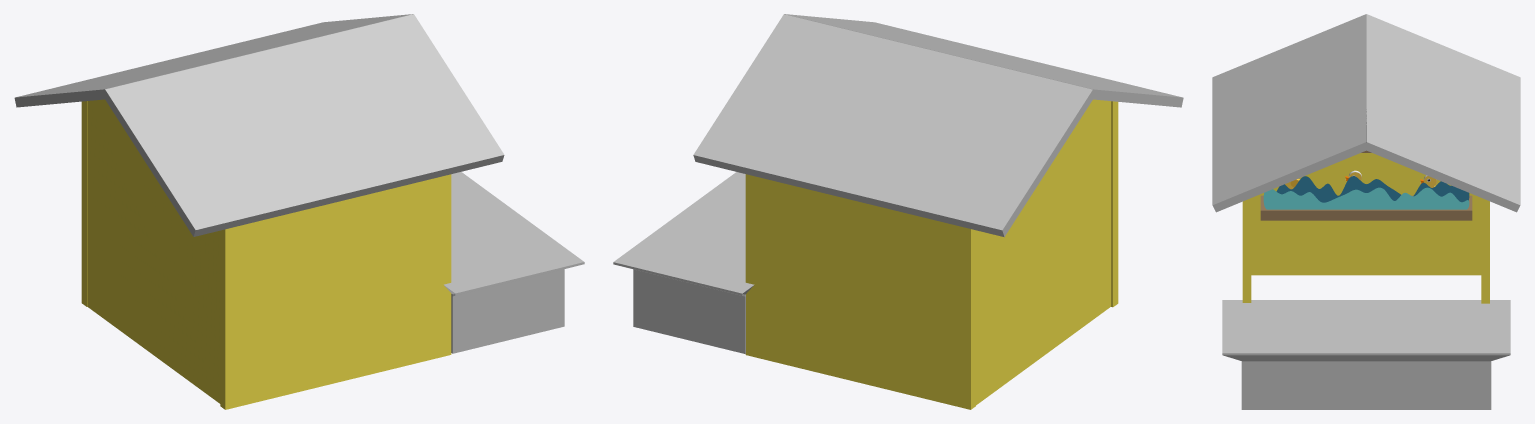
File: booth animation.fbx
The picture shows the model from 3 angles, left to right: view 1: azimuth 30°, elevation 25°; view 2: azimuth 150°, elevation 25°; view 3: azimuth 270°, elevation 25°; orthographic projection. The views are drawn at different scales.
Parts seen in each view (by area): view 1: Cube.004, Cube.001, Cube.003, Cube, Cube.002; view 2: Cube.004, Cube.002, Cube.003, Cube, Cube.001; view 3: Cube.004, Cube, Cube.003, Plane, Cube.006, Plane.001, Cube.001, Cube.002.
Boxes of the visible parts, <box> form: Cube.004: <box>14,14,504,236</box>; Cube.001: <box>220,174,451,409</box>; Cube.003: <box>87,99,220,403</box>; Cube: <box>444,172,584,353</box>; Cube.002: <box>81,101,87,306</box>; Cube.004: <box>693,14,1183,237</box>; Cube.002: <box>745,174,975,409</box>; Cube.003: <box>976,99,1110,405</box>; Cube: <box>613,172,754,353</box>; Cube.001: <box>1111,101,1118,307</box>; Cube.004: <box>1212,14,1520,212</box>; Cube: <box>1222,300,1510,409</box>; Cube.003: <box>1251,153,1481,275</box>; Plane: <box>1263,187,1469,209</box>; Cube.006: <box>1260,195,1472,220</box>; Plane.001: <box>1276,176,1469,202</box>; Cube.001: <box>1242,198,1251,302</box>; Cube.002: <box>1481,198,1489,303</box>.
Size of the model in its own units: 706 by 477 by 561.
